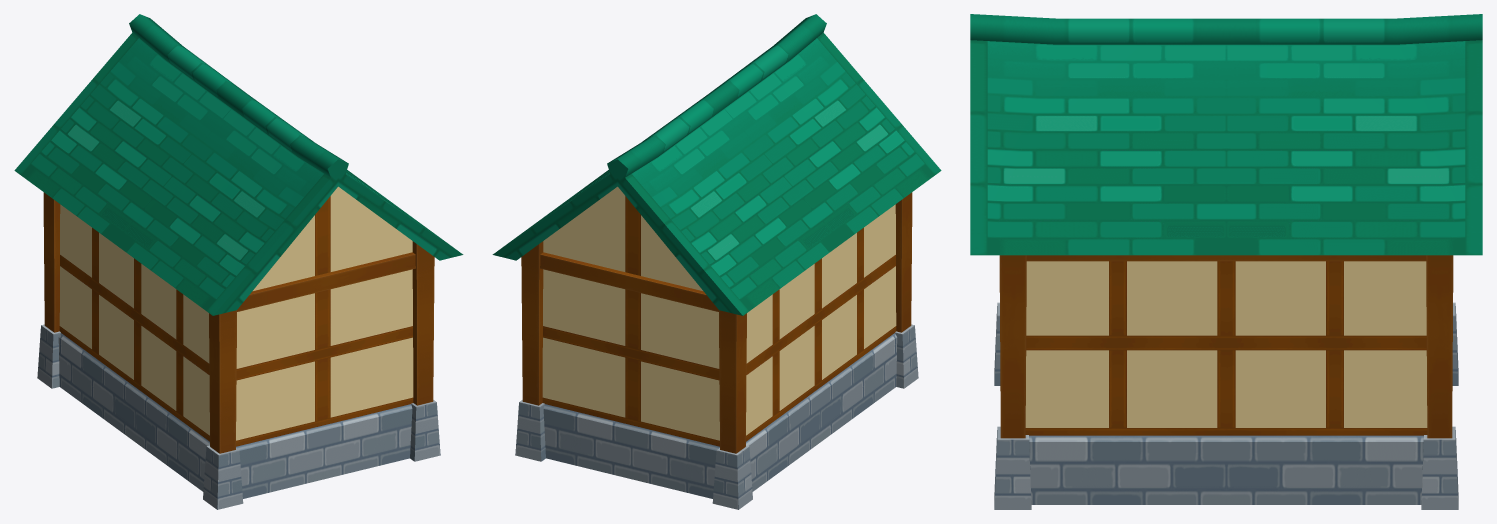
The model's file is BLD0710030.fbx.
3 views of the same model, side by side, from view 1: azimuth 30°, elevation 25°; view 2: azimuth 150°, elevation 25°; view 3: azimuth 270°, elevation 25° (orthographic). The views are drawn at different scales.
Parts seen in each view (by area): view 1: smBLD0710030; view 2: smBLD0710030; view 3: smBLD0710030.
Boxes of the visible parts, box(x1,y1,x2,y2) form: smBLD0710030: box(14, 14, 463, 509); smBLD0710030: box(492, 14, 941, 509); smBLD0710030: box(970, 14, 1482, 509).
Bounding box in the file's own units: 286 × 360 × 392.
Materials: 1 (1 with a texture image).
